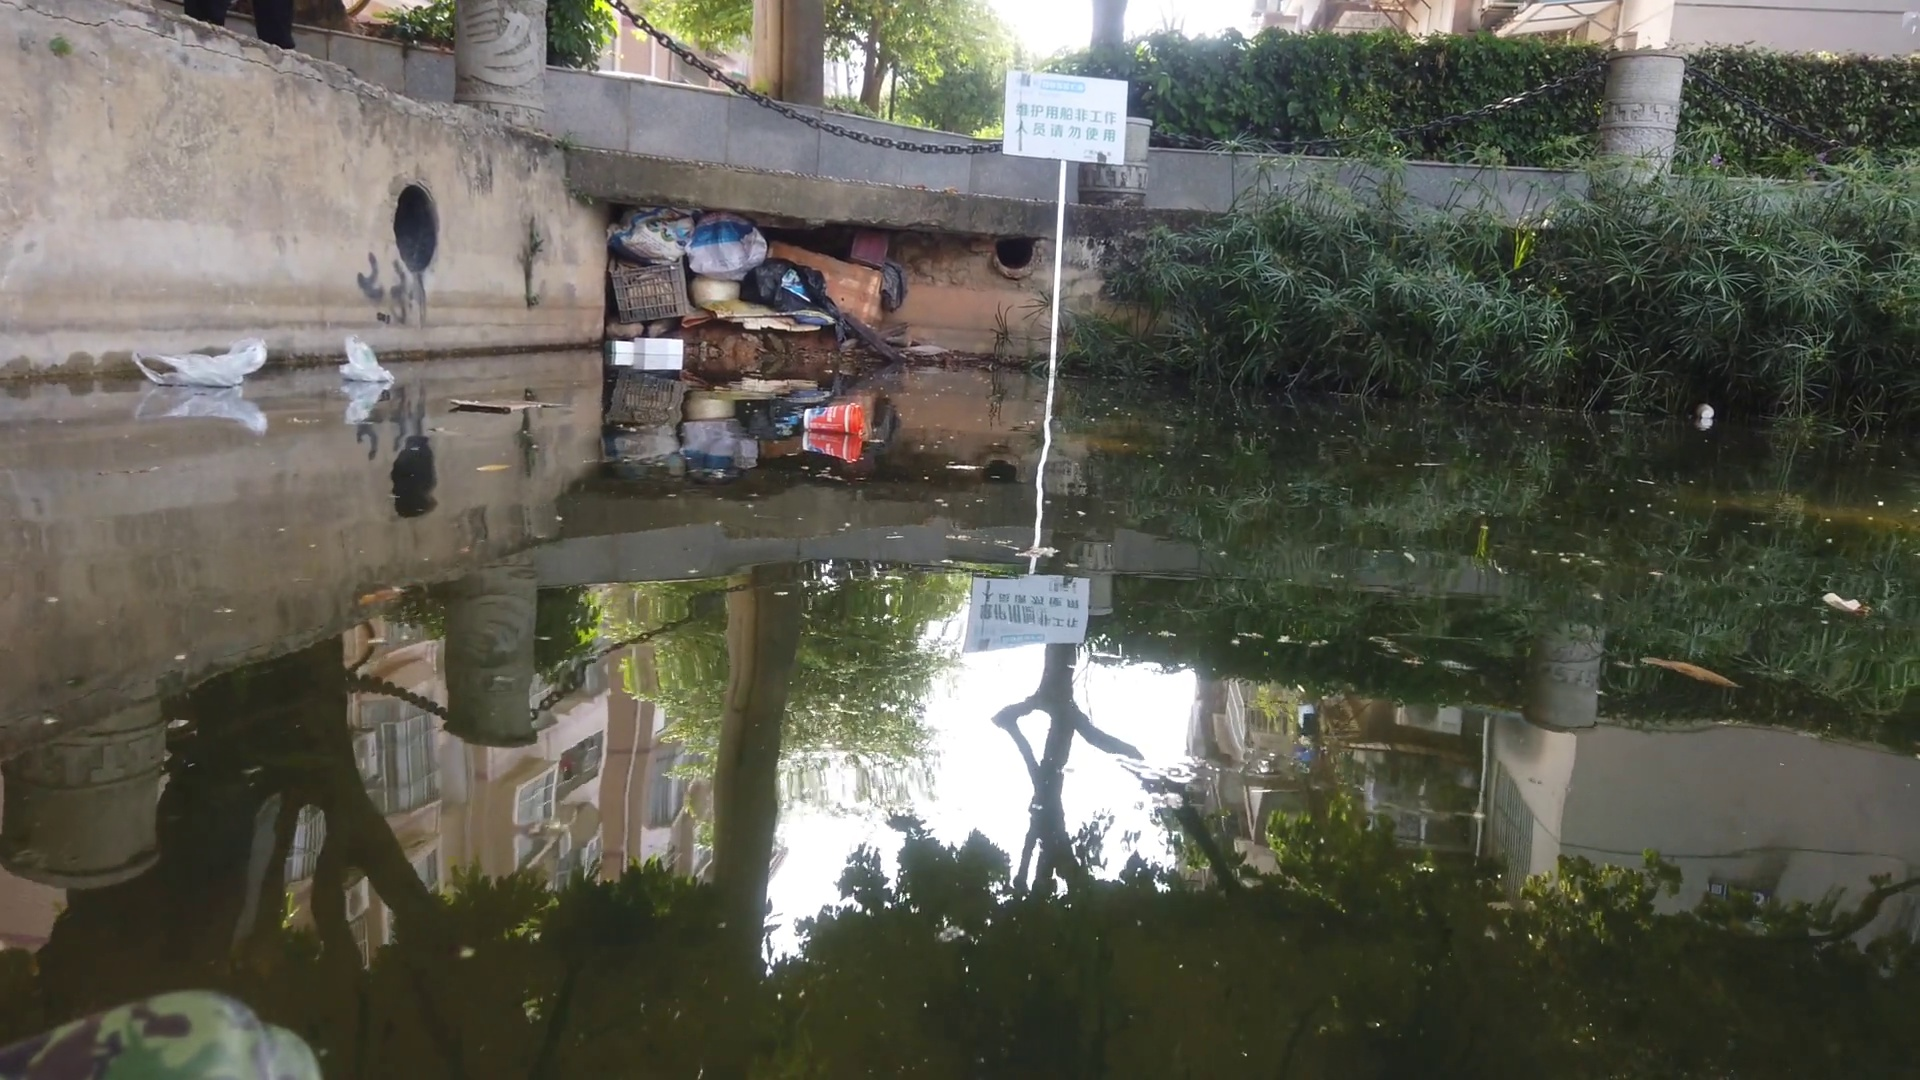bottle: (795, 400, 870, 433), (1695, 402, 1716, 419)
carton: (633, 335, 684, 355), (605, 338, 636, 352)
paper: (451, 394, 570, 411)
plastic: (123, 335, 273, 388), (334, 334, 396, 382)
